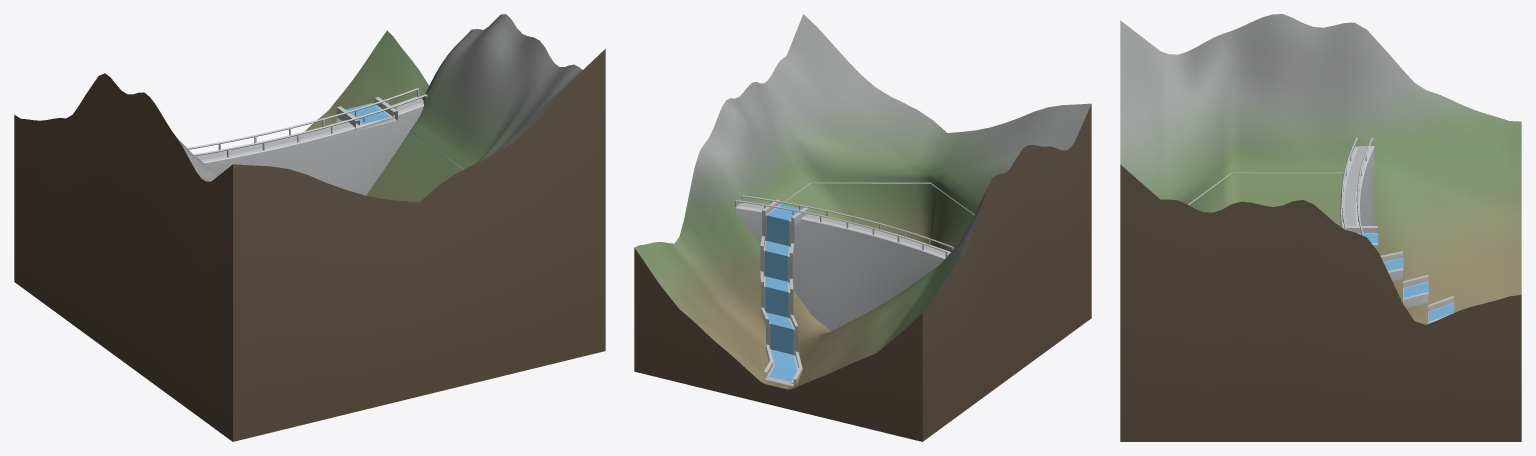
The model's file is dam.glb.
3 renders of one model, left to right at view 1: azimuth 30°, elevation 25°; view 2: azimuth 150°, elevation 25°; view 3: azimuth 270°, elevation 25°, orthographic. The views are drawn at different scales.
Parts seen in each view (by area): view 1: Basin, Wall, Spillway; view 2: Basin, Wall, WaterDown, Spillway; view 3: Basin, Wall, Spillway, WaterDown.
Boxes of the visible parts, left/top/right/bottom form: Basin: left=14, top=14, right=605, bottom=441; Wall: left=187, top=88, right=427, bottom=195; Spillway: left=336, top=97, right=397, bottom=130; Basin: left=634, top=14, right=1091, bottom=441; Wall: left=735, top=195, right=953, bottom=331; WaterDown: left=765, top=204, right=801, bottom=381; Spillway: left=760, top=199, right=809, bottom=386; Basin: left=1120, top=14, right=1521, bottom=441; Wall: left=1340, top=137, right=1374, bottom=235; Spillway: left=1342, top=226, right=1453, bottom=323; WaterDown: left=1358, top=233, right=1454, bottom=321.
Bounding box in the file's own units: 6.4 × 4.96 × 6.5.
